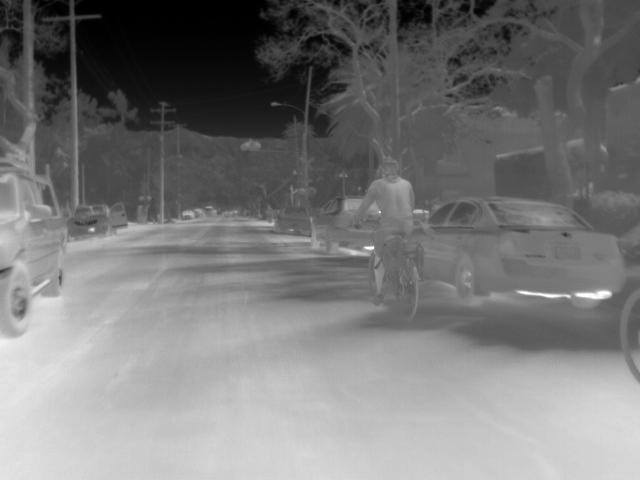car: (408, 195, 627, 307), (0, 160, 70, 338), (70, 200, 128, 241), (318, 197, 366, 228), (273, 204, 311, 236), (180, 208, 195, 221), (192, 208, 206, 221)
person: (355, 159, 415, 300)
